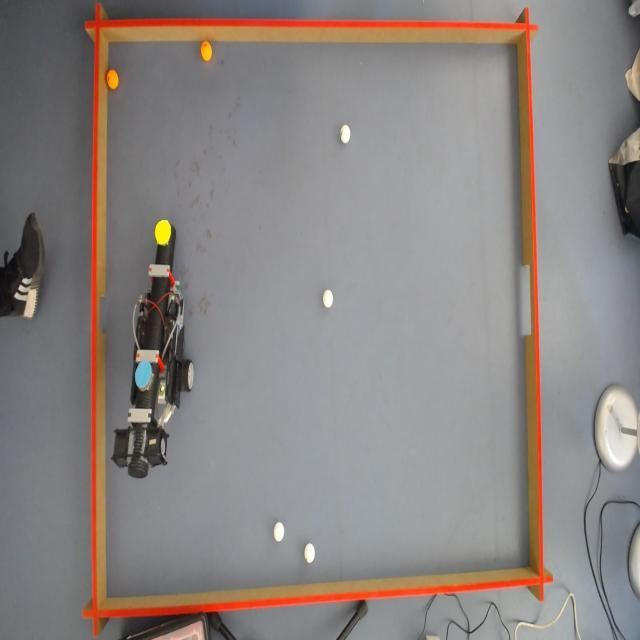orange: (107, 69, 122, 89), (200, 41, 212, 64)
robot: (118, 218, 196, 478)
robot-front: (156, 222, 172, 244)
robot-rear: (132, 357, 153, 390)
white: (272, 520, 286, 542), (304, 542, 317, 564), (321, 289, 334, 309), (340, 124, 350, 144)
